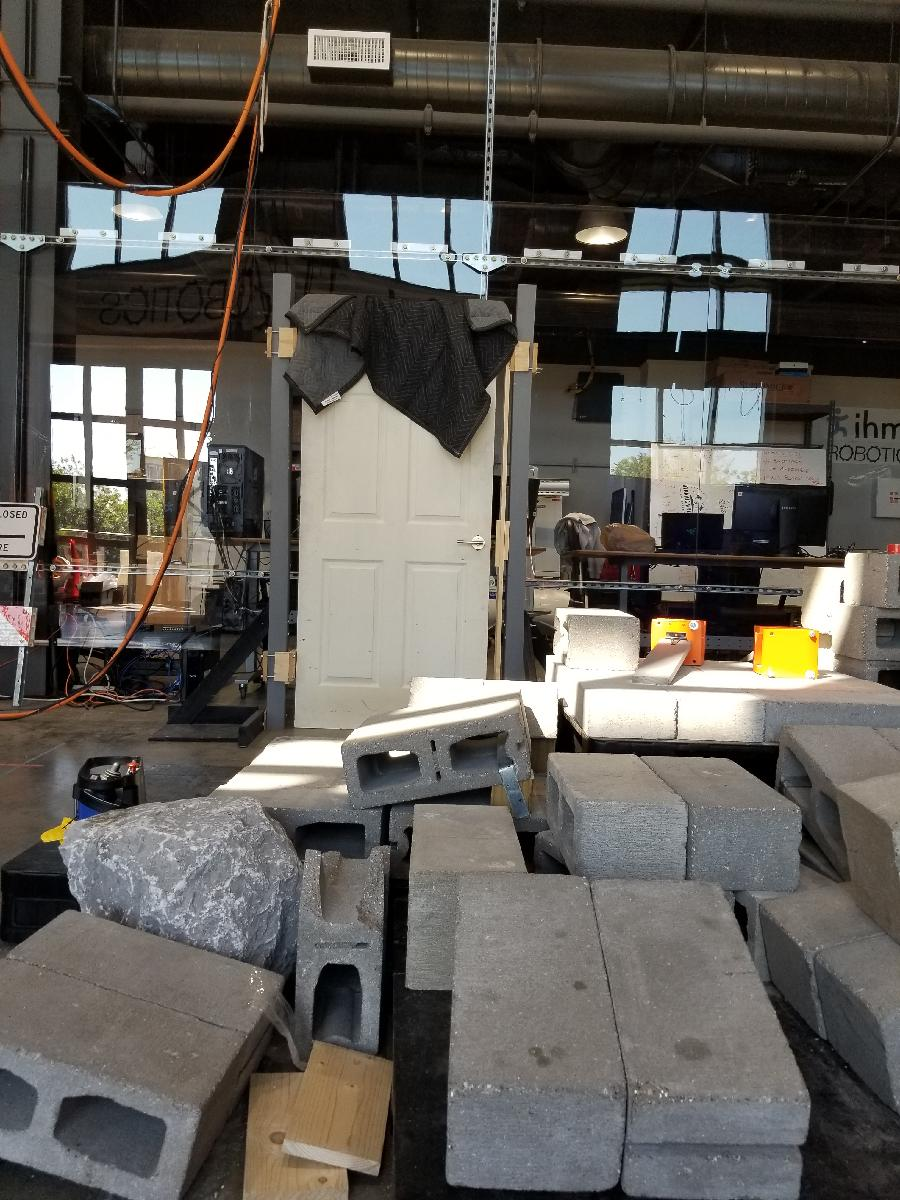door: (292, 298, 500, 762)
doorHandle: (454, 531, 489, 553)
